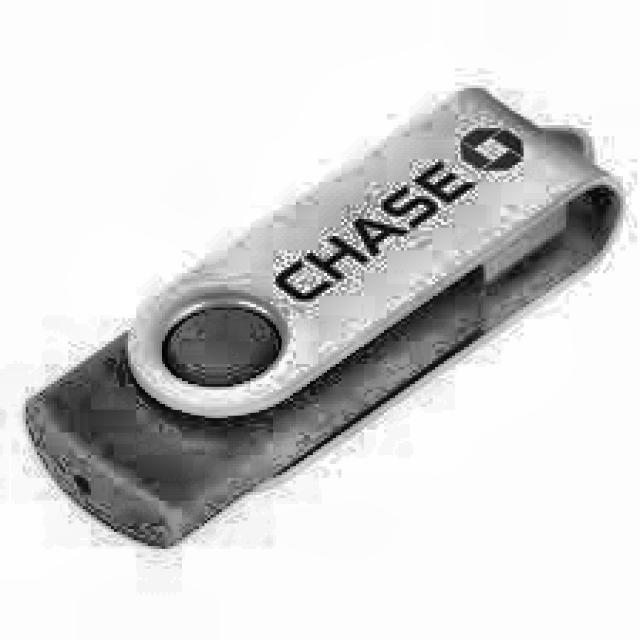Mug: (15, 62, 627, 552)
